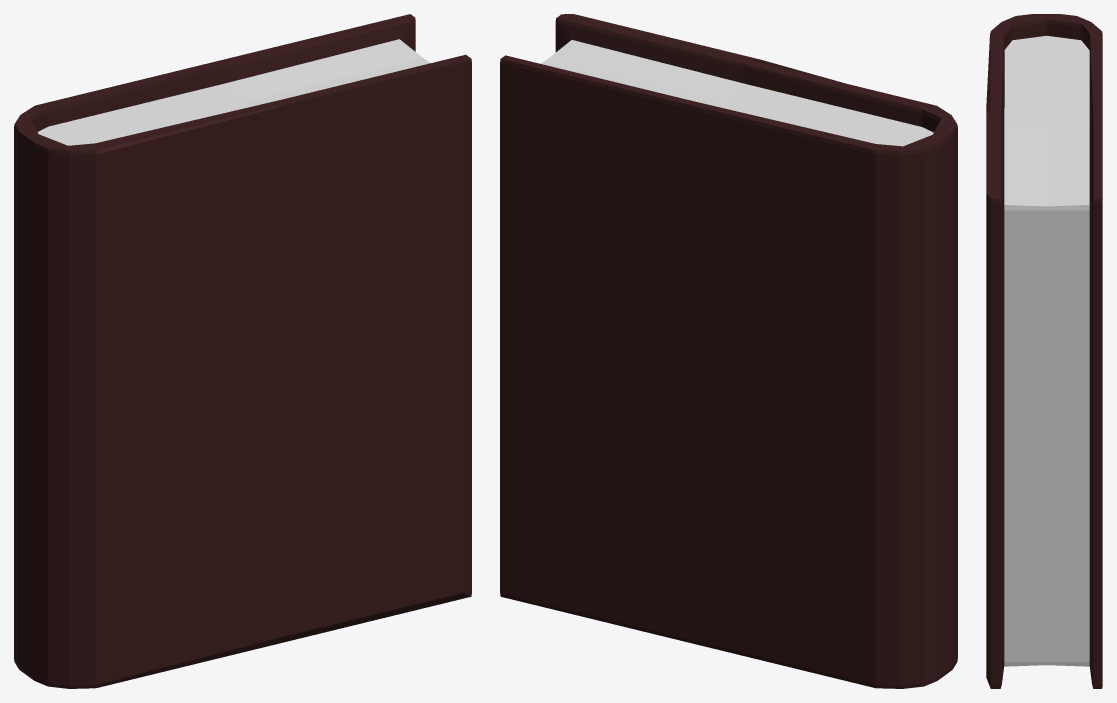
Rendered from SIMPLEBOOKLOW.fbx.
3 renders of one model, left to right at view 1: azimuth 30°, elevation 25°; view 2: azimuth 150°, elevation 25°; view 3: azimuth 270°, elevation 25°, orthographic. The views are drawn at different scales.
Visible parts, largest first — view 1: LIVROSIMPLESHIGH; view 2: LIVROSIMPLESHIGH; view 3: LIVROSIMPLESHIGH.
Boxes of the visible parts, x1,y1,x2,y2 form: LIVROSIMPLESHIGH: [14, 14, 471, 688]; LIVROSIMPLESHIGH: [500, 14, 957, 688]; LIVROSIMPLESHIGH: [986, 14, 1102, 688].
Bounding box in the file's own units: 196 × 243 × 52.38.
